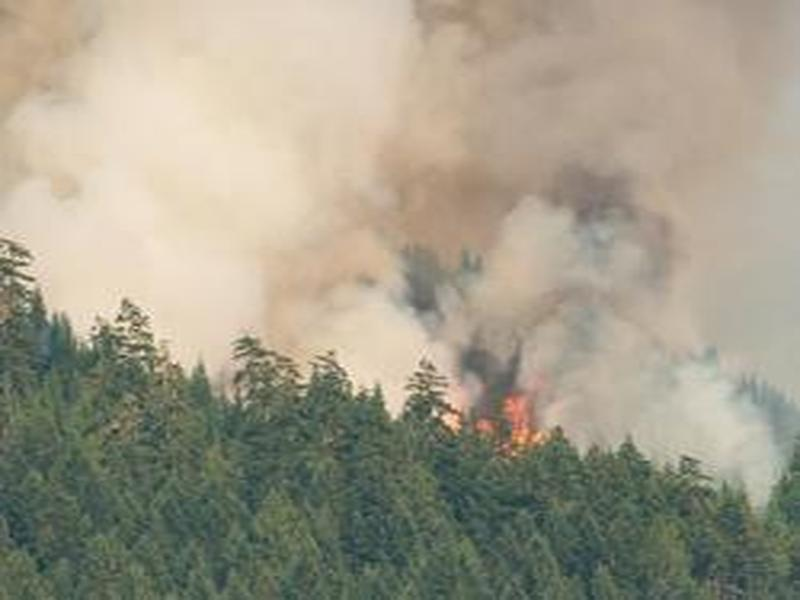FIRE: (408, 365, 663, 487)
